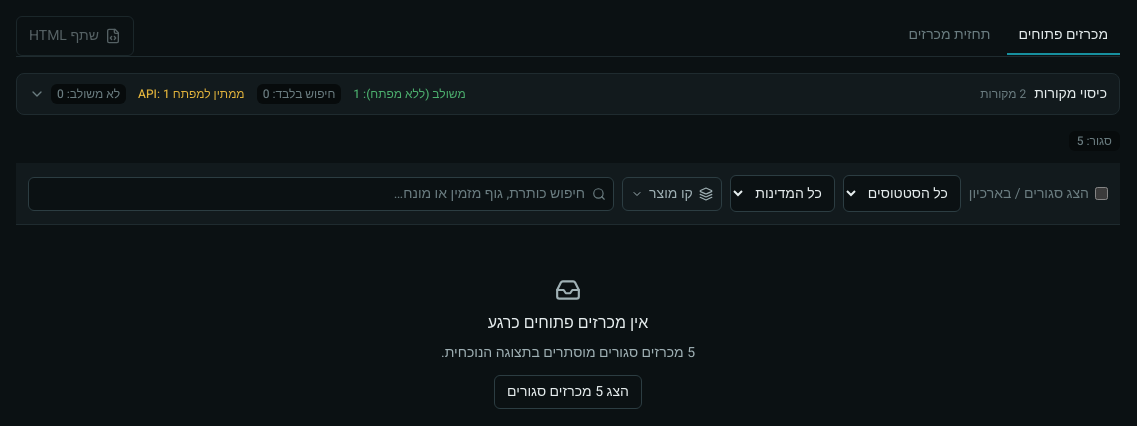
TendersPage — open tenders tab › clicking the inline hidden-closed-tenders action reveals them
Step 1. Click the button "הצג 5 מכרזים סגורים" → (568, 392), box x1=494 y1=375 x2=642 y2=409
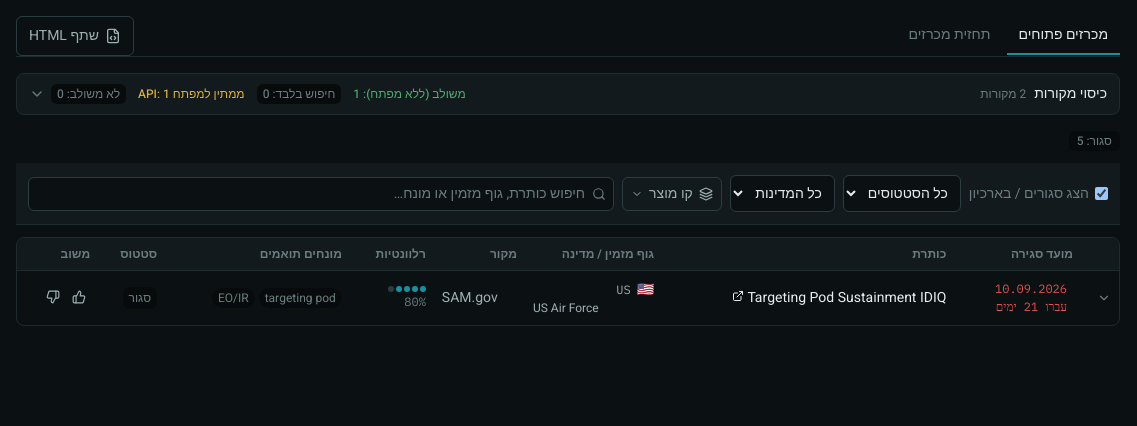
Result: the text "Targeting Pod Sustainment IDIQ" is shown at x1=748 y1=288 x2=946 y2=308
